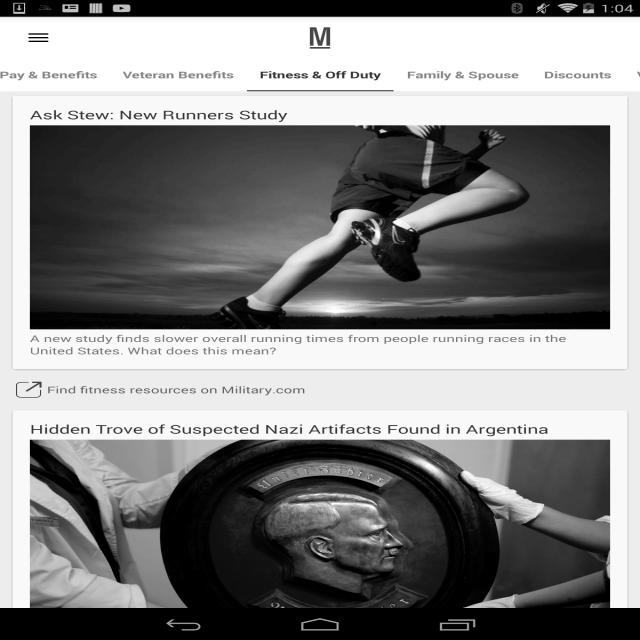ImageButton: (9, 17, 68, 59)
ImageView: (30, 126, 610, 330), (29, 439, 610, 640), (290, 27, 350, 49)
TextView: (11, 374, 629, 406), (30, 332, 610, 358), (30, 106, 610, 122), (30, 421, 610, 437), (247, 59, 394, 90), (110, 59, 247, 90), (394, 59, 531, 90), (0, 59, 110, 90), (531, 59, 624, 90), (624, 59, 640, 90)
